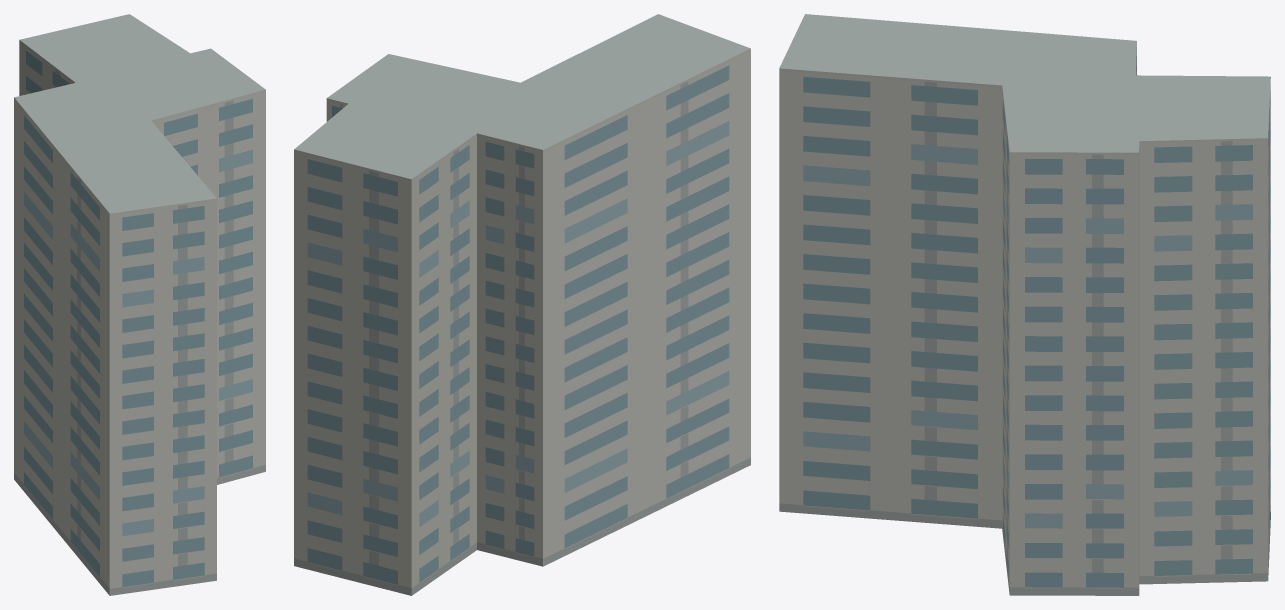
Rendered from residential-c7b89a41-172b-4de1-88bf-b6a3c600db80.glb.
3 views of the same model, side by side, from view 1: azimuth 30°, elevation 25°; view 2: azimuth 150°, elevation 25°; view 3: azimuth 270°, elevation 25° (orthographic). The views are drawn at different scales.
Visible parts, largest first — view 1: residential-c7b89a41-172b-4de1-88bf-b6a3c600db80.tmp; view 2: residential-c7b89a41-172b-4de1-88bf-b6a3c600db80.tmp; view 3: residential-c7b89a41-172b-4de1-88bf-b6a3c600db80.tmp.
Boxes of the visible parts, bbox=[...] form: residential-c7b89a41-172b-4de1-88bf-b6a3c600db80.tmp: bbox=[14, 14, 265, 595]; residential-c7b89a41-172b-4de1-88bf-b6a3c600db80.tmp: bbox=[294, 14, 750, 595]; residential-c7b89a41-172b-4de1-88bf-b6a3c600db80.tmp: bbox=[779, 14, 1270, 595].
Bounding box in the file's own units: 32.22 × 48 × 48.26.
